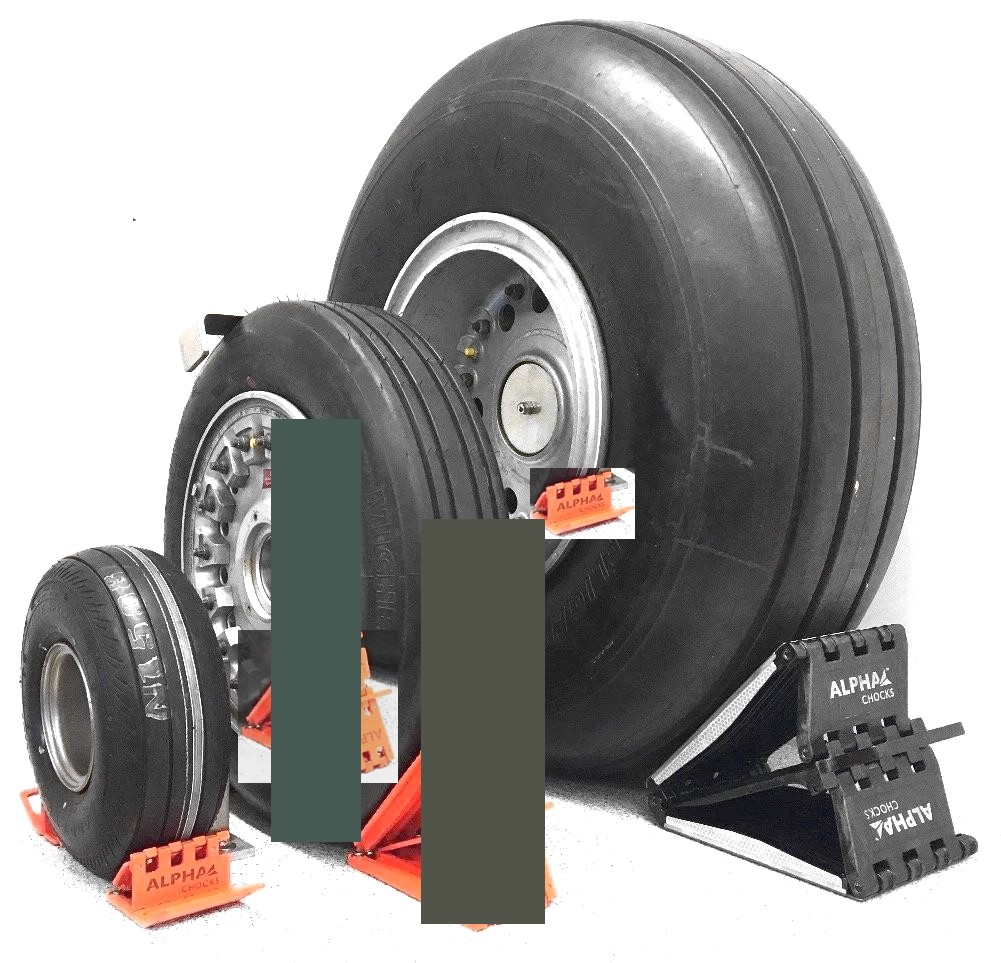chock: (636, 619, 983, 904), (343, 721, 562, 931), (238, 630, 398, 783), (105, 825, 266, 935), (530, 468, 635, 539)
wheel: (323, 14, 921, 791), (166, 303, 502, 823), (19, 546, 236, 879)
